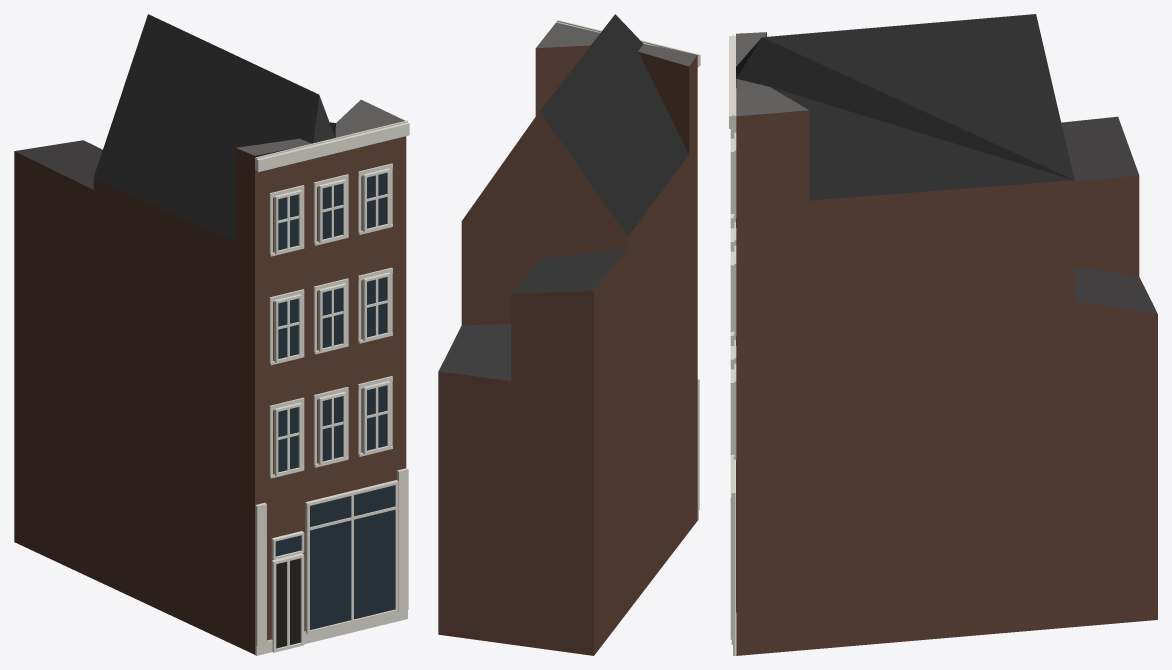
The picture shows the model from 3 angles, left to right: view 1: azimuth 30°, elevation 25°; view 2: azimuth 150°, elevation 25°; view 3: azimuth 270°, elevation 25°; orthographic projection. The views are drawn at different scales.
Visible parts, largest first — view 1: spec-0363100012178295; view 2: spec-0363100012178295; view 3: spec-0363100012178295.
Part boxes in pixels (x1,y1,x2,y2): spec-0363100012178295: [14, 14, 409, 655]; spec-0363100012178295: [438, 14, 700, 655]; spec-0363100012178295: [729, 14, 1157, 655].
Bounding box in the file's own units: 6.74 × 15.87 × 10.65.
